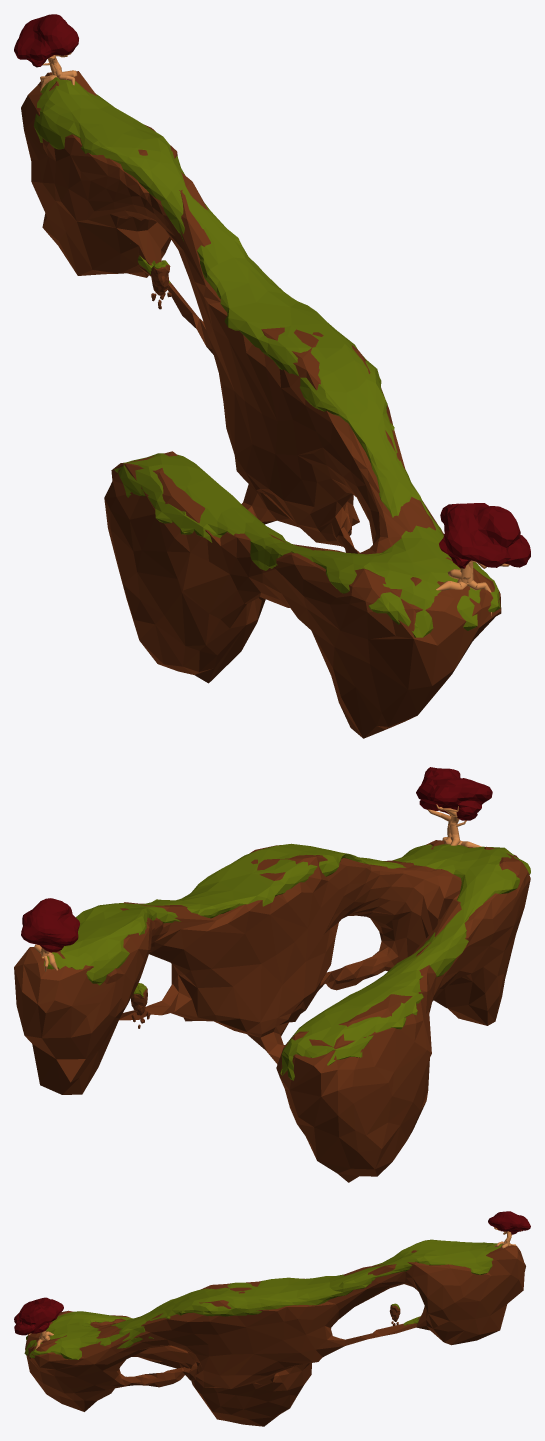
Rendered from Due_Isola2.fbx.
The picture shows the model from 3 angles, top to bottom: view 1: azimuth 30°, elevation 25°; view 2: azimuth 150°, elevation 25°; view 3: azimuth 270°, elevation 25°; orthographic projection. The views are drawn at different scales.
Parts seen in each view (by area): view 1: Mball.010, Plane.029, Mball.014, Mball.000; view 2: Mball.010, Plane.029, Mball.014, Mball.000, NurbsPath.009; view 3: Mball.010, Plane.029, Mball.014, Mball.000.
Boxes of the visible parts, left/top/right/bottom form: Mball.010: left=21, top=71, right=501, bottom=738; Plane.029: left=34, top=77, right=500, bottom=637; Mball.014: left=439, top=503, right=530, bottom=568; Mball.000: left=14, top=14, right=78, bottom=67; Mball.010: left=14, top=840, right=530, bottom=1182; Plane.029: left=41, top=843, right=530, bottom=1080; Mball.014: left=416, top=767, right=492, bottom=820; Mball.000: left=21, top=898, right=79, bottom=952; NurbsPath.009: left=427, top=804, right=481, bottom=847; Mball.010: left=25, top=1245, right=525, bottom=1426; Plane.029: left=24, top=1239, right=502, bottom=1359; Mball.014: left=14, top=1297, right=63, bottom=1335; Mball.000: left=488, top=1211, right=530, bottom=1234.
Bounding box in the file's own units: 386 × 805 × 1549.
